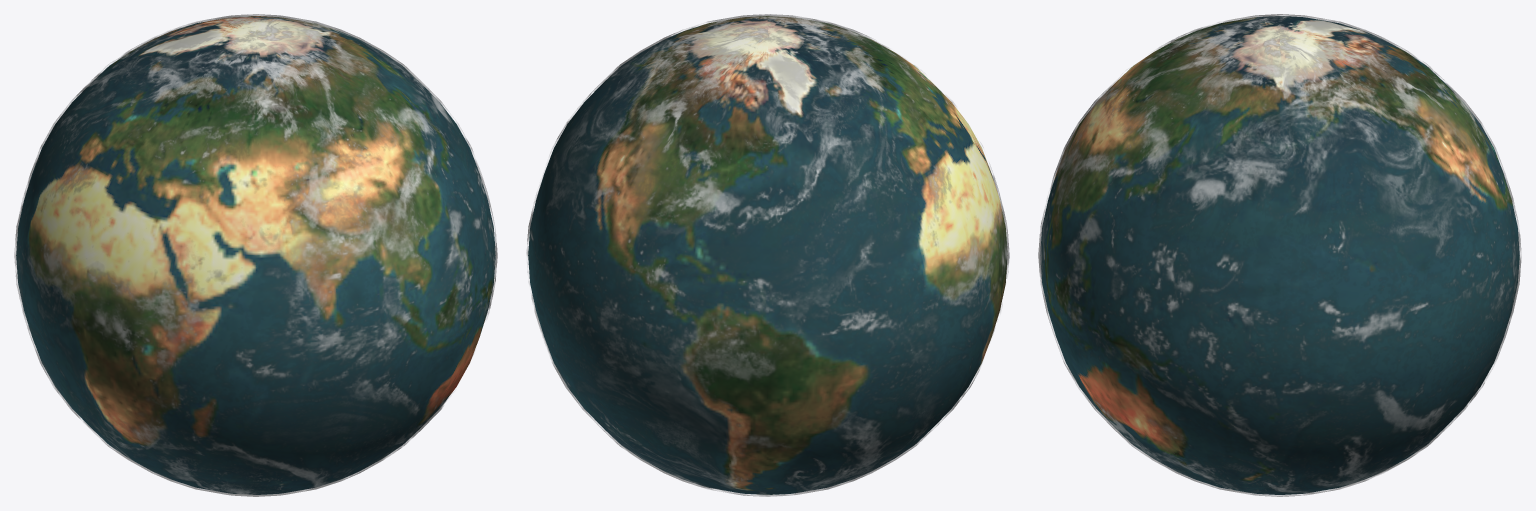
Rendered from earth_tank_2k.glb.
The picture shows the model from 3 angles, left to right: view 1: azimuth 30°, elevation 25°; view 2: azimuth 150°, elevation 25°; view 3: azimuth 270°, elevation 25°; orthographic projection.
Parts seen in each view (by area): view 1: Earth, Clouds; view 2: Earth, Clouds; view 3: Earth, Clouds.
Part boxes in pixels (box(x1,y1,x2,y2)): Earth: box(16, 16, 495, 494); Clouds: box(14, 14, 497, 496); Earth: box(528, 16, 1007, 494); Clouds: box(526, 14, 1009, 496); Earth: box(1040, 16, 1519, 494); Clouds: box(1038, 14, 1521, 496).
Bounding box in the file's own units: 12.9 × 12.9 × 12.9.
2 materials, 2 textured.
